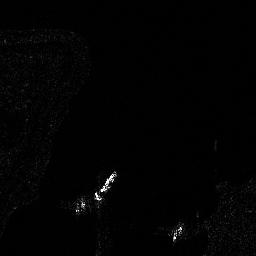ship: (95, 169, 119, 203)
